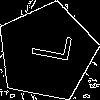L: (22, 27, 72, 64)
